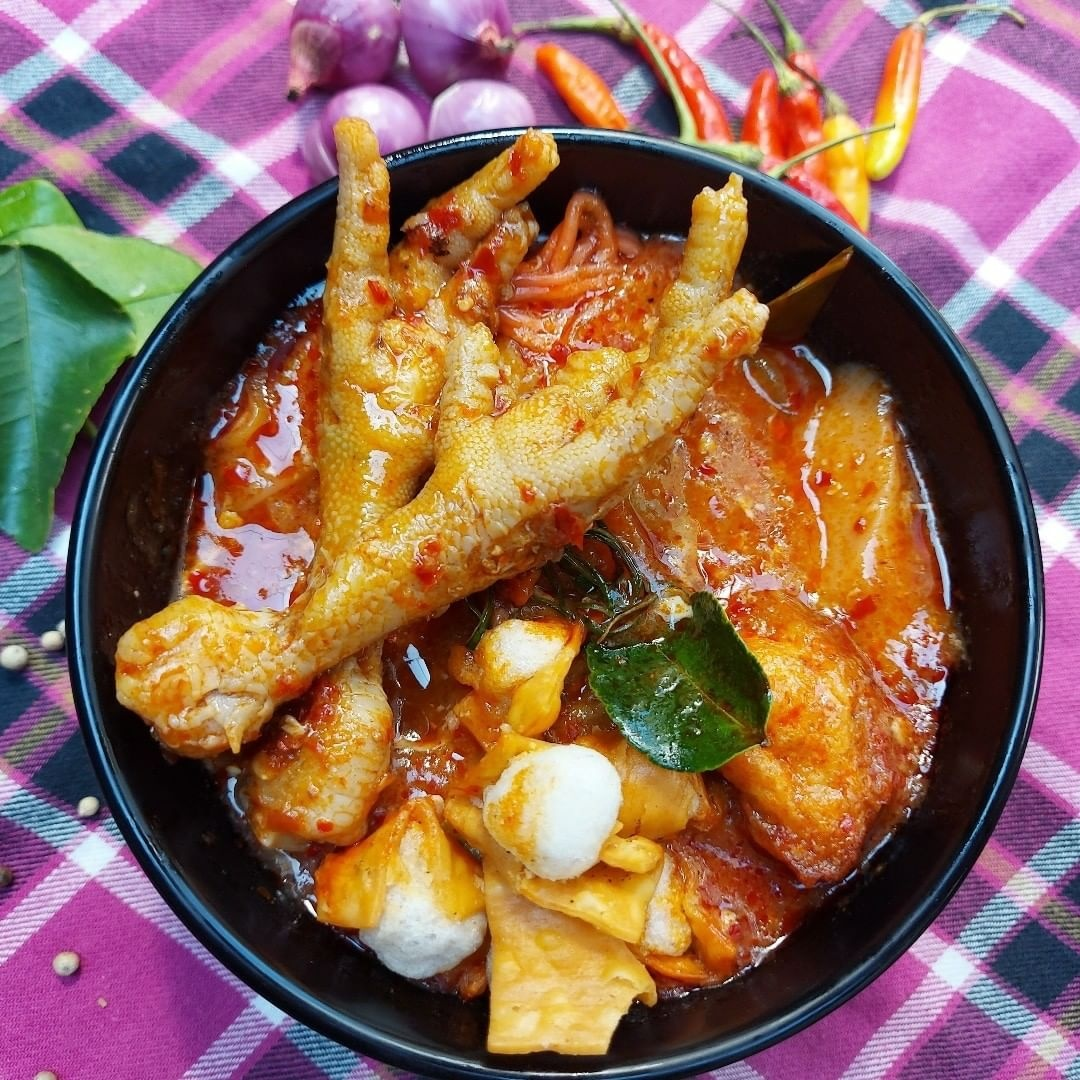seblak: (114, 122, 962, 1052)
